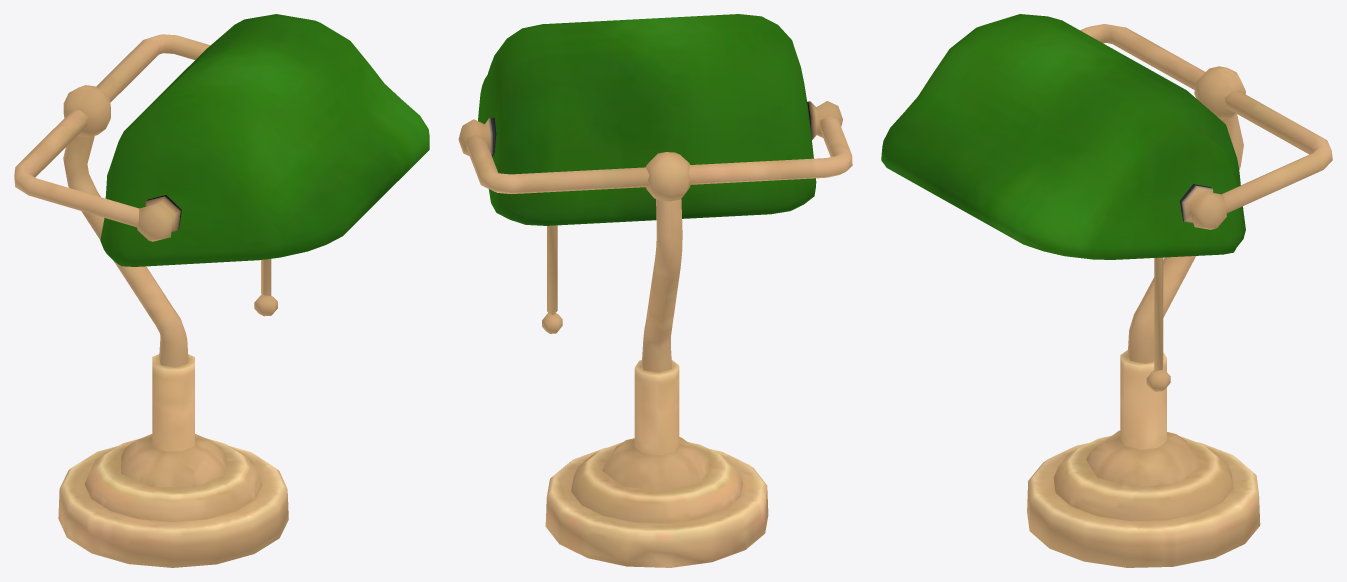
3 views of the same model, side by side, from view 1: azimuth 30°, elevation 25°; view 2: azimuth 150°, elevation 25°; view 3: azimuth 270°, elevation 25° (orthographic). The views are drawn at different scales.
Bounding box in the file's own units: 6.9 × 8.03 × 6.82.
Materials: 1 (1 with a texture image).
